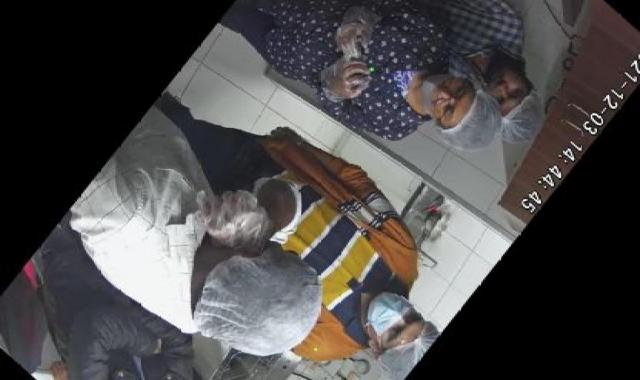hairnet: (182, 245, 324, 356), (442, 88, 501, 156), (384, 314, 445, 371), (494, 88, 558, 140)
